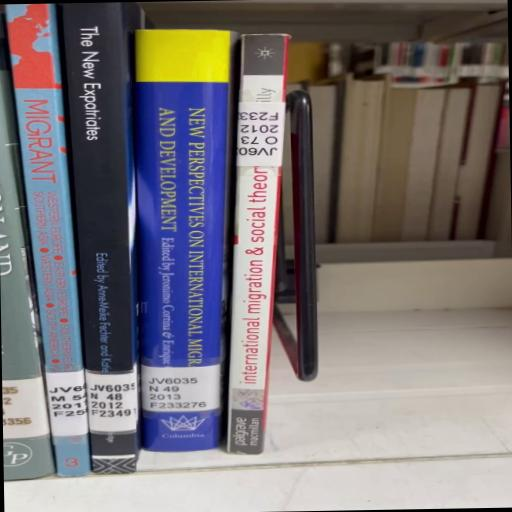reverse: (228, 35, 318, 456)
